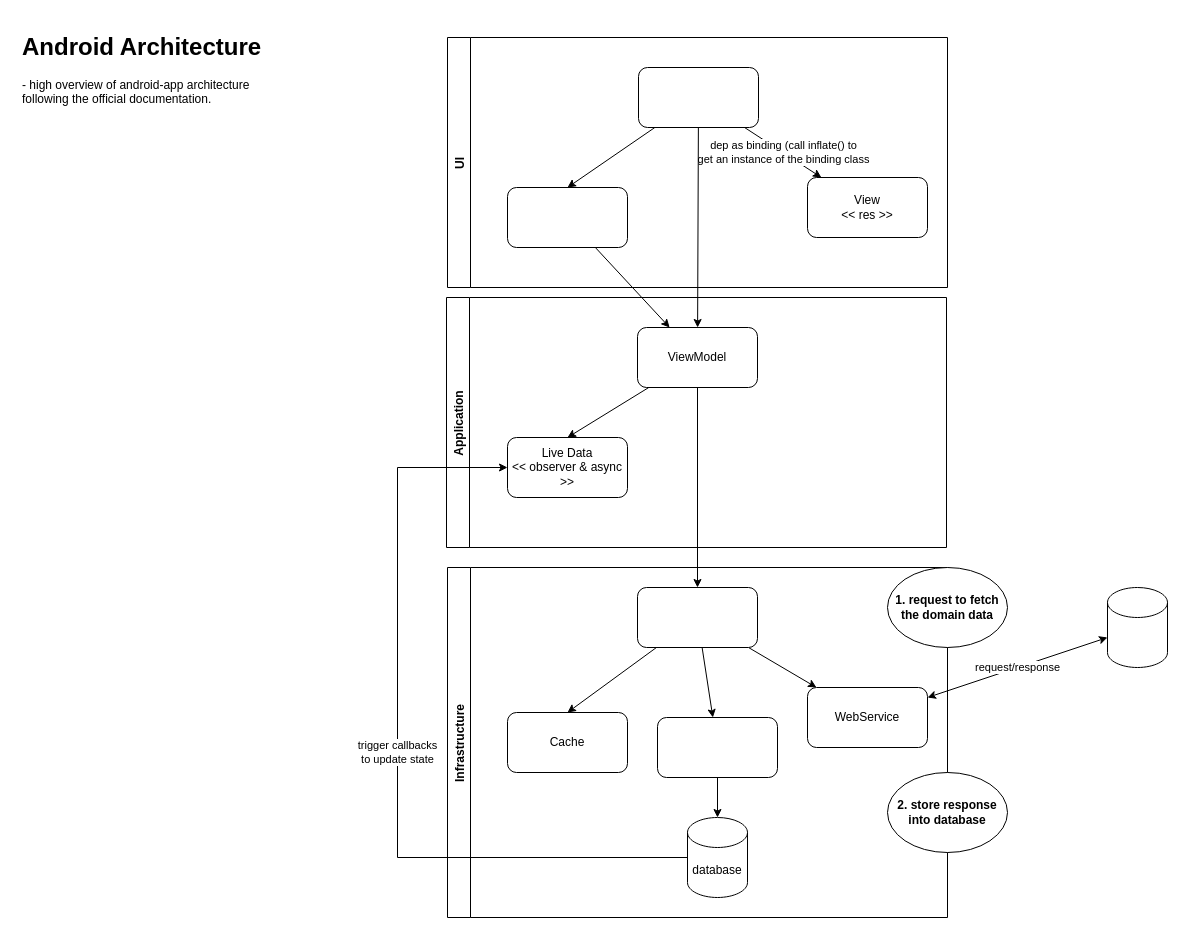
Image size: 1185x935. Some labels were removed from this diagram. The shapes that lost their labels are listed below. From the top down, each one's centre as x and y in pixels, then its label:
At [698,97]: "Activity".
At [567,217]: "Fragment".
At [697,617]: "Repository".
At [1137,627]: "API".
At [717,747]: "DAO".
